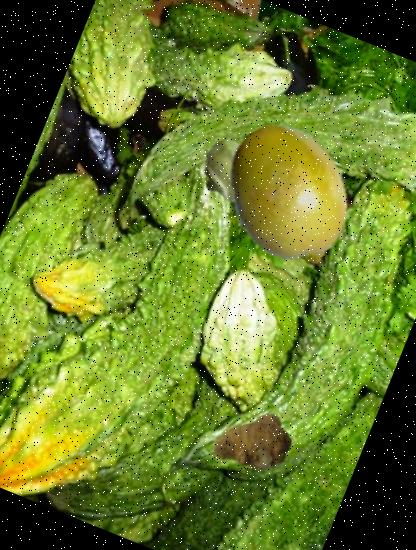Ginger: (200, 390, 304, 494)
Kohlrabi: (184, 125, 284, 225)
Maracuja: (197, 102, 378, 282)
